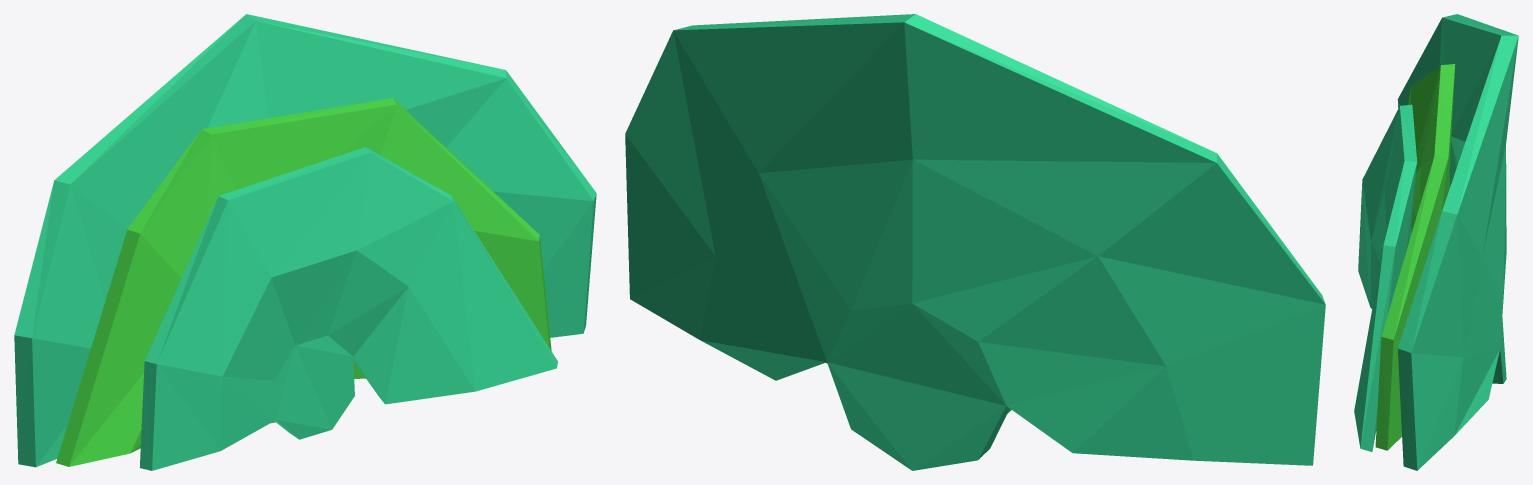
File: CoralGreenWedge.FBX
The picture shows the model from 3 angles, left to right: view 1: azimuth 30°, elevation 25°; view 2: azimuth 150°, elevation 25°; view 3: azimuth 270°, elevation 25°; orthographic projection. The views are drawn at different scales.
Visible parts, largest first — view 1: CoralGreenWedge; view 2: CoralGreenWedge; view 3: CoralGreenWedge.
Part boxes in pixels (x1,y1,x2,y2): CoralGreenWedge: (14,14,596,470); CoralGreenWedge: (625,14,1325,470); CoralGreenWedge: (1354,14,1518,470).
Size of the model in its own units: 51.11 by 31.68 by 13.76.
